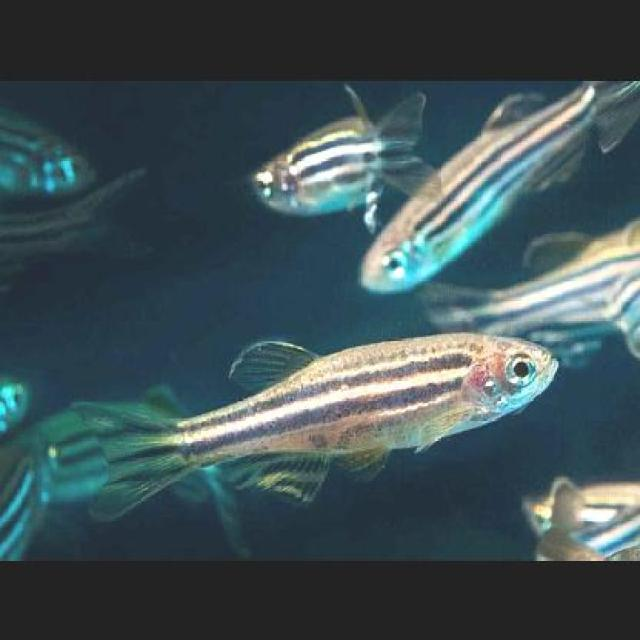ZebraFish: (82, 328, 564, 506)
